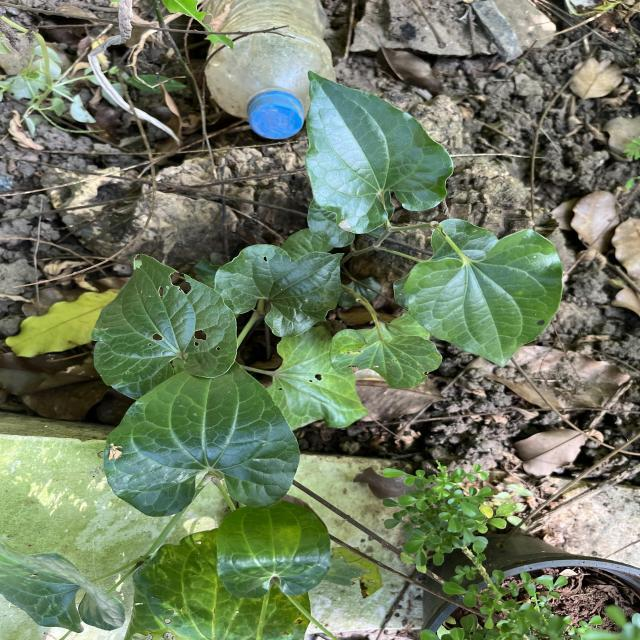Piper longum: (100, 359, 304, 518), (302, 68, 456, 237), (399, 226, 567, 370)
